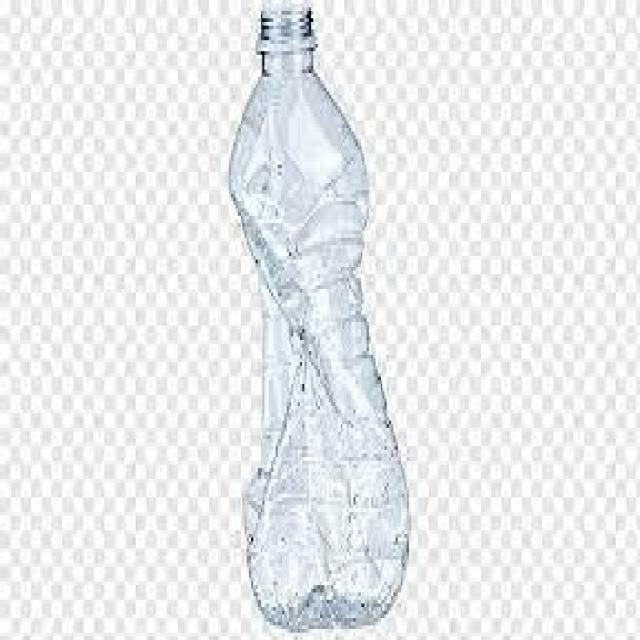chai: (230, 7, 408, 629)
